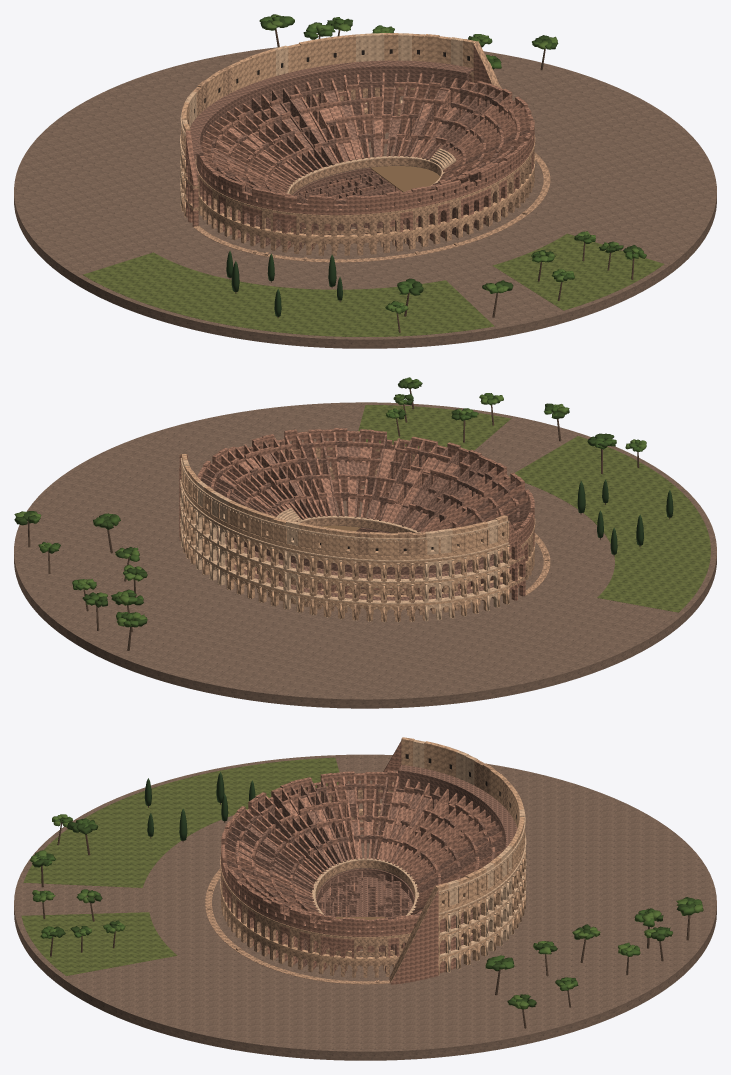
Rendered from colosseum.glb.
The picture shows the model from 3 angles, top to bottom: view 1: azimuth 30°, elevation 25°; view 2: azimuth 150°, elevation 25°; view 3: azimuth 270°, elevation 25°; orthographic projection.
Visible parts, largest first — view 1: Colosseum; view 2: Colosseum; view 3: Colosseum.
Boxes of the visible parts, x1=… form: Colosseum: x1=14, y1=14, x2=716, y2=348; Colosseum: x1=14, y1=377, x2=716, y2=708; Colosseum: x1=14, y1=737, x2=716, y2=1060.
Bounding box in the file's own units: 350 × 53.2 × 350.
Materials: 14 (7 with a texture image).
